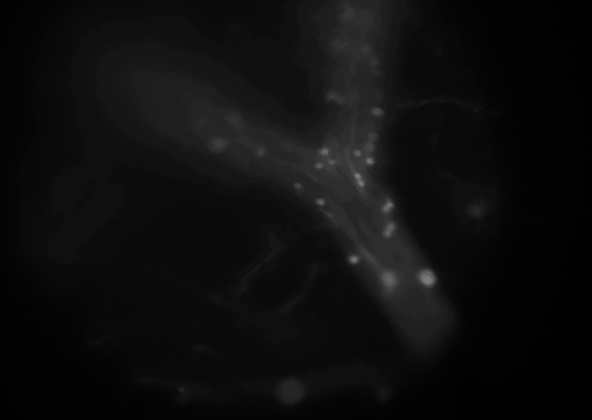cell: (420, 271, 434, 285), (370, 106, 384, 120), (350, 145, 364, 159), (364, 155, 378, 169), (317, 143, 331, 157), (312, 159, 326, 173), (325, 154, 339, 168), (325, 89, 339, 103), (350, 169, 364, 183), (332, 92, 346, 106), (354, 175, 368, 189), (346, 254, 360, 268), (382, 271, 396, 285), (381, 225, 395, 239), (382, 197, 396, 211), (385, 220, 399, 234), (378, 201, 392, 215), (314, 196, 328, 210), (291, 180, 305, 194), (253, 143, 267, 157), (209, 138, 223, 152), (358, 43, 372, 57), (367, 53, 381, 67), (331, 40, 345, 54), (368, 130, 382, 144), (362, 142, 376, 156)
